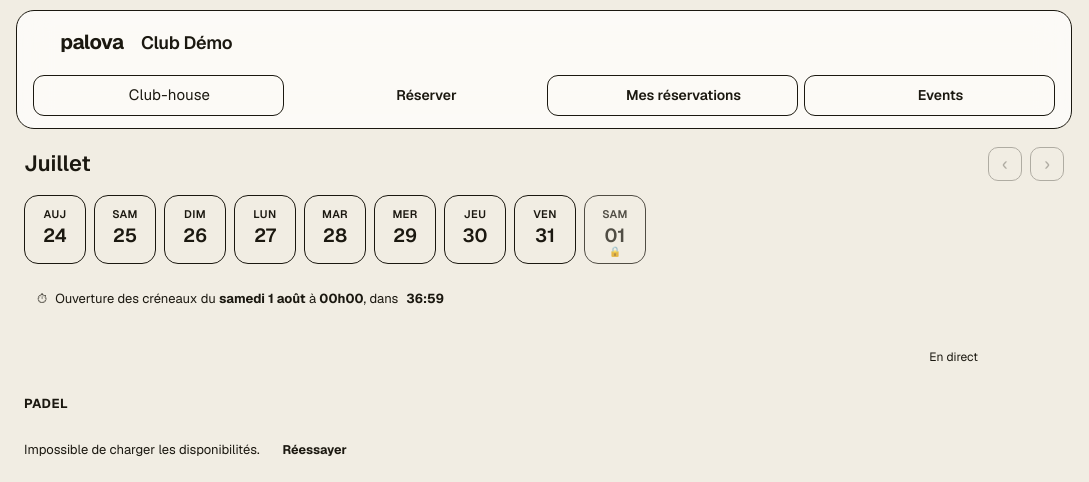
ClubReserve — échec réseau de la disponibilité › affiche un message distinct de « Aucun terrain. » + un bouton Réessayer qui recharge
Expected: the text "Impossible de charger les disponibilités. Réessayer" is shown, [24, 435, 360, 466]
Expected: the text "Aucun terrain." is not shown
Click the button "Réessayer" at (315, 450), box [270, 435, 360, 466]
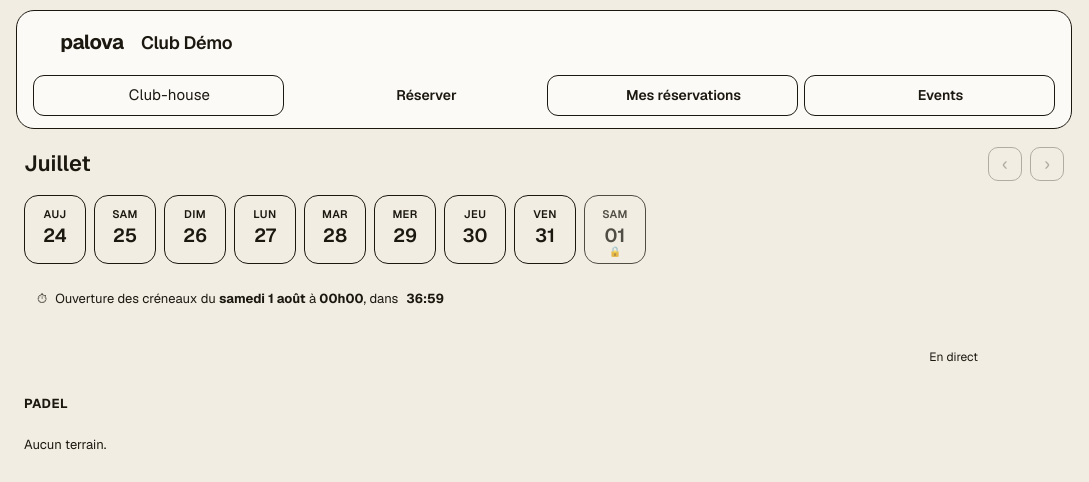
Expected: the text "Aucun terrain." is shown, [24, 436, 106, 453]
